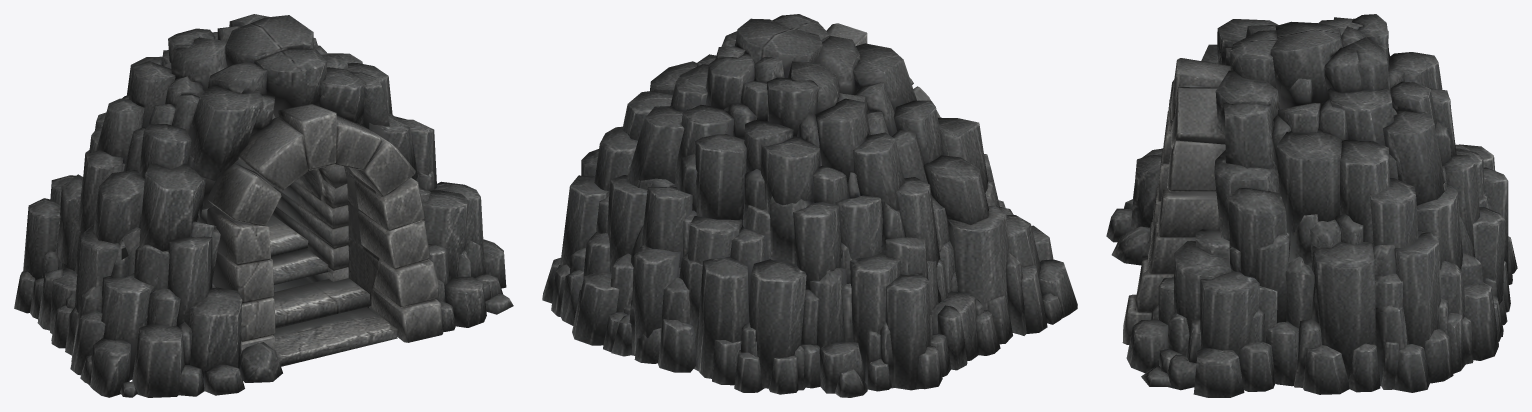
Rendered from entrance_rock_arch_v1.glb.
3 views of the same model, side by side, from view 1: azimuth 30°, elevation 25°; view 2: azimuth 150°, elevation 25°; view 3: azimuth 270°, elevation 25° (orthographic). The views are drawn at different scales.
Size of the model in its own units: 1 by 0.6044 by 0.8193.
1 material, 1 textured.
